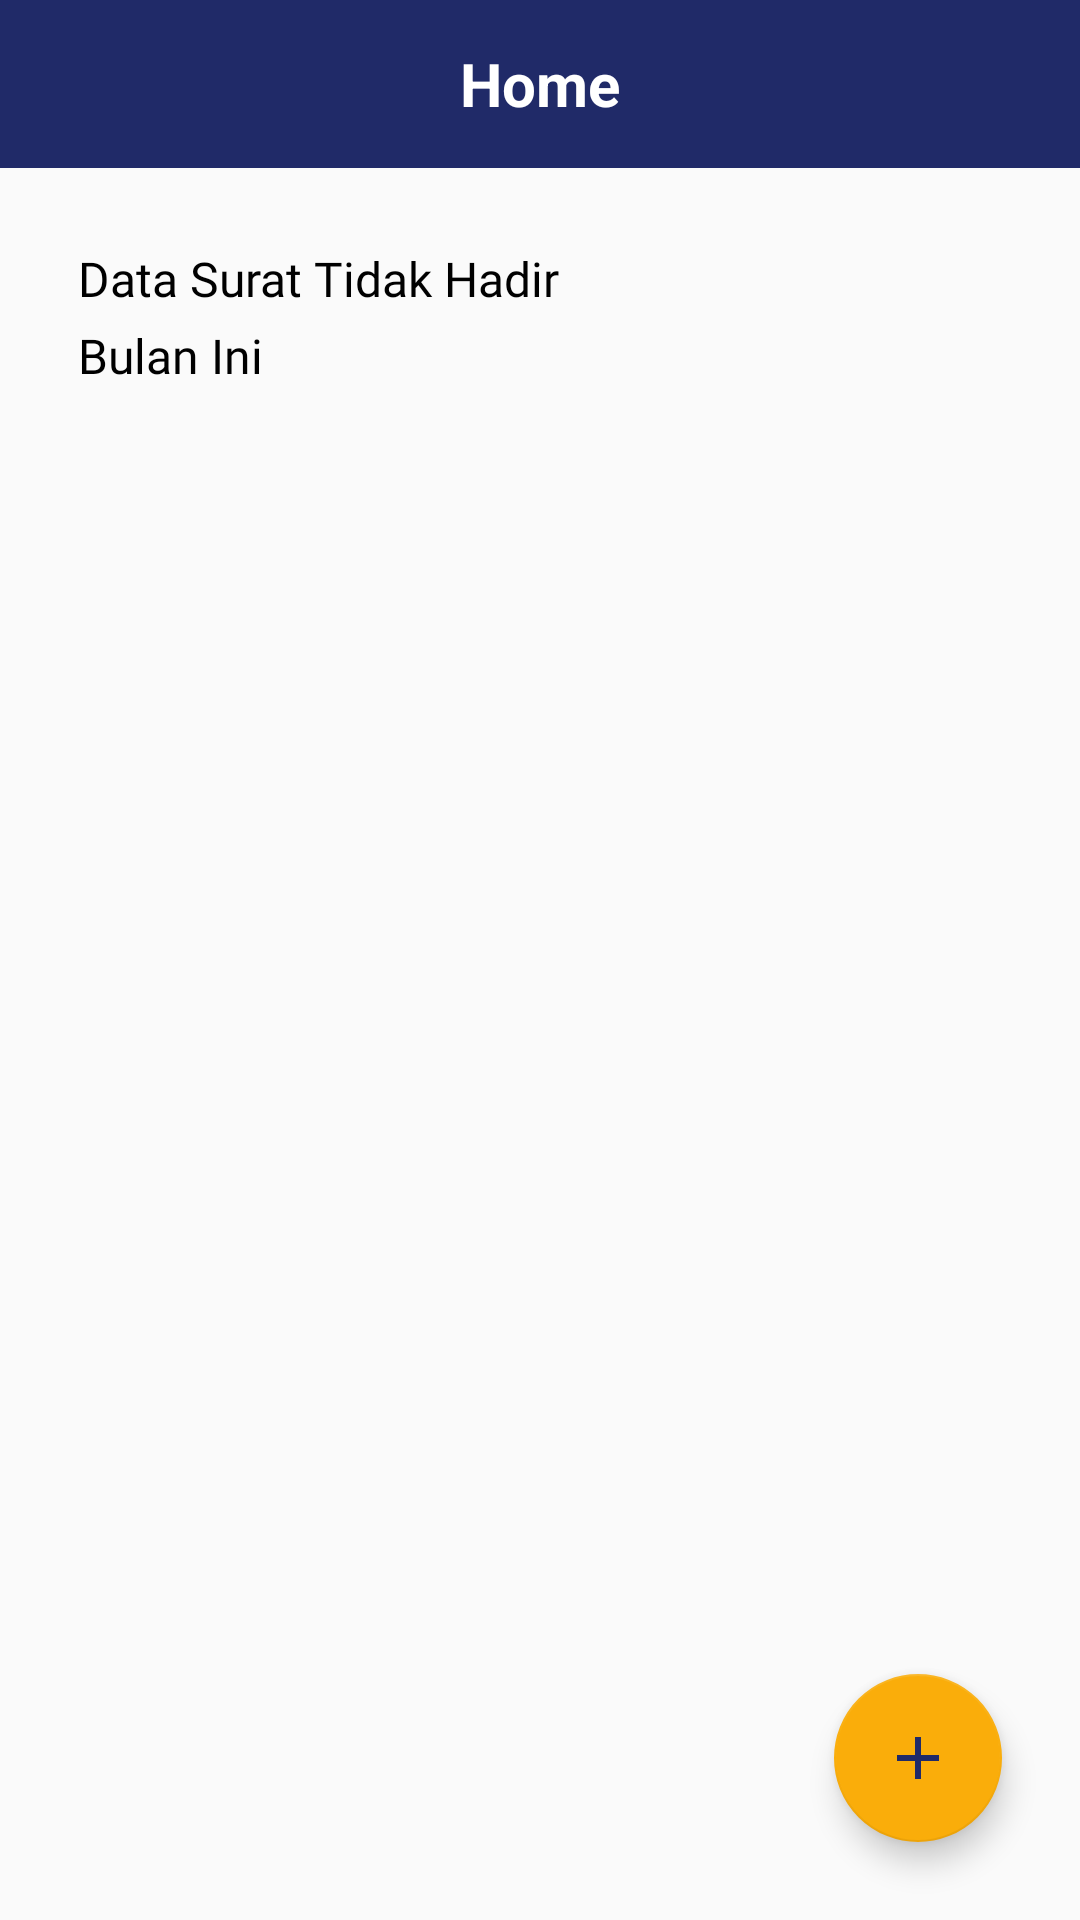

Screen size 1080px x 1920px. Icon name, then its center in pixels as [x,y]:
add: [918,1758]
